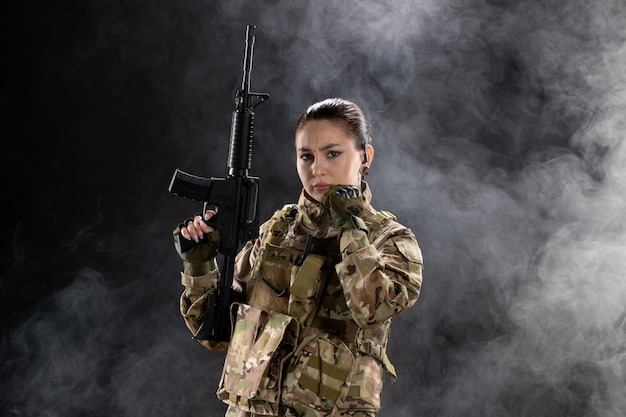gun: (170, 23, 267, 347)
